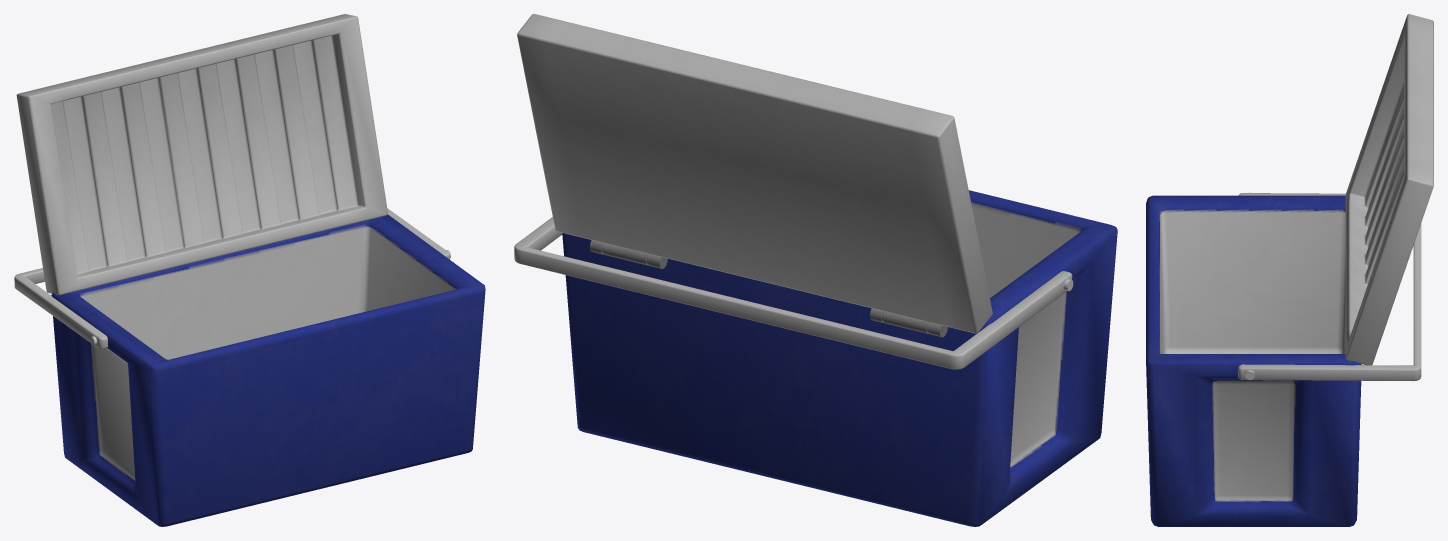
The model's file is cooler_box.glb.
The picture shows the model from 3 angles, left to right: view 1: azimuth 30°, elevation 25°; view 2: azimuth 150°, elevation 25°; view 3: azimuth 270°, elevation 25°; orthographic projection. The views are drawn at different scales.
Visible parts, largest first — view 1: Cooler Box_0; view 2: Cooler Box_0; view 3: Cooler Box_0.
Boxes of the visible parts, x1,y1,x2,y2 form: Cooler Box_0: (14,14,485,526); Cooler Box_0: (514,14,1117,526); Cooler Box_0: (1146,14,1433,526).
Size of the model in its own units: 2.49 by 2.3 by 1.69.
1 material, 1 textured.
